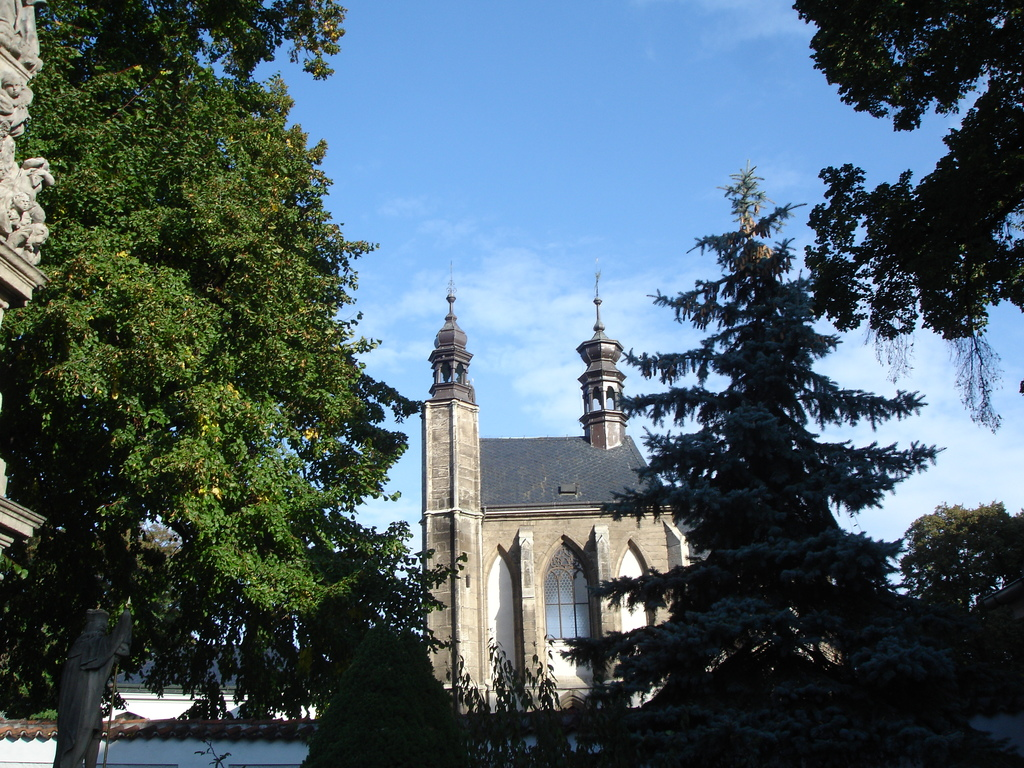Tree: (10, 24, 409, 749), (551, 159, 951, 767), (305, 622, 474, 767), (903, 498, 1023, 638)
